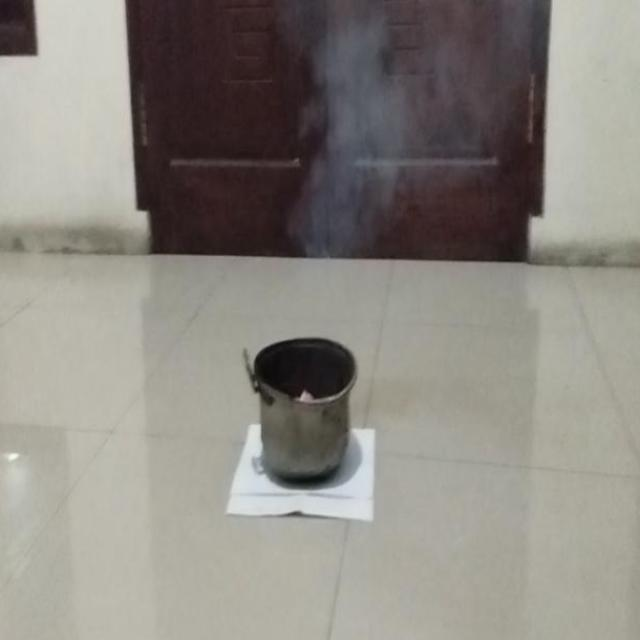fire: (305, 0, 530, 255)
